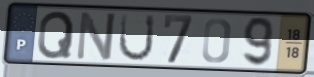0: (200, 17, 234, 65)
7: (161, 13, 196, 66)
9: (240, 16, 276, 69)
N: (73, 10, 118, 63)
Q: (35, 9, 77, 61)
U: (116, 12, 158, 64)
